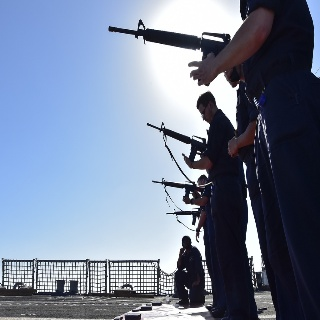rifle: (107, 16, 234, 73), (145, 117, 210, 164), (150, 175, 205, 199), (167, 207, 204, 226)
